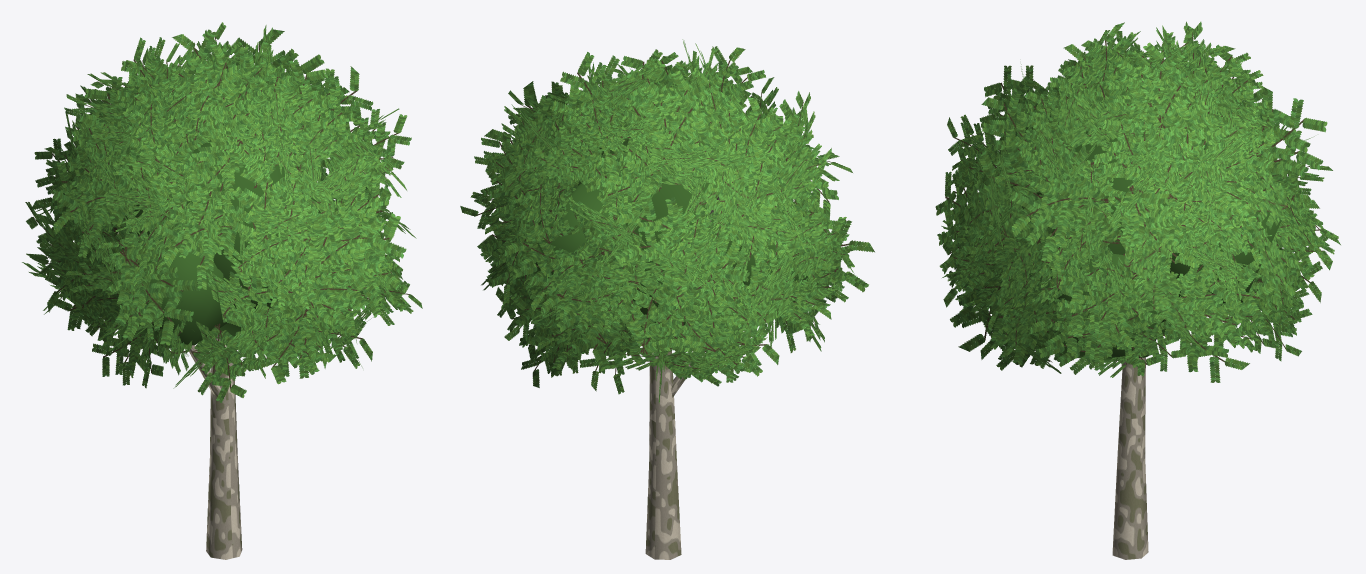
The model's file is FRAXINUS_1.glb.
The picture shows the model from 3 angles, left to right: view 1: azimuth 30°, elevation 25°; view 2: azimuth 150°, elevation 25°; view 3: azimuth 270°, elevation 25°; orthographic projection.
Parts seen in each view (by area): view 1: Arv_FRAXINUS_lod1; view 2: Arv_FRAXINUS_lod1; view 3: Arv_FRAXINUS_lod1.
Boxes of the visible parts, x1,y1,x2,y2 form: Arv_FRAXINUS_lod1: (22, 22, 422, 559); Arv_FRAXINUS_lod1: (460, 39, 874, 559); Arv_FRAXINUS_lod1: (935, 21, 1340, 559).
Size of the model in its own units: 7.81 by 10.74 by 8.04.
3 materials, 2 textured.
